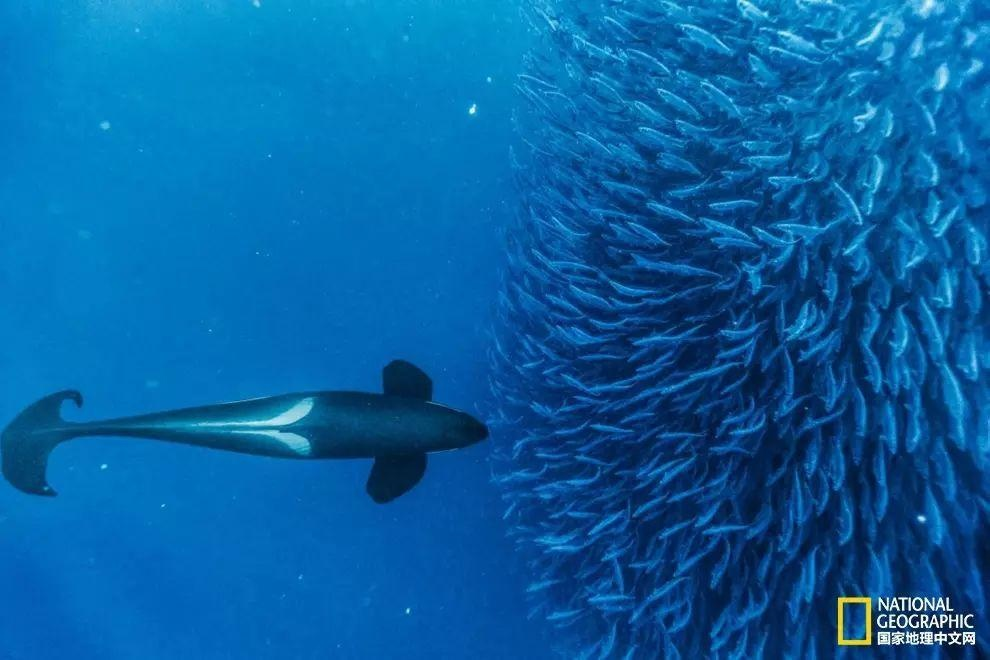fish: (3, 360, 489, 508)
